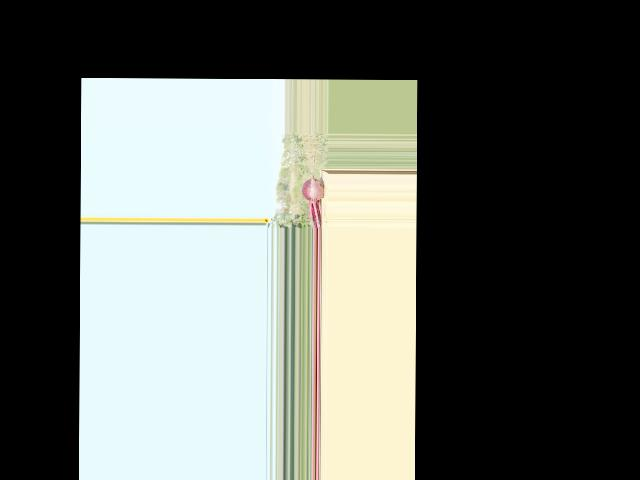beet: (302, 136, 324, 229)
